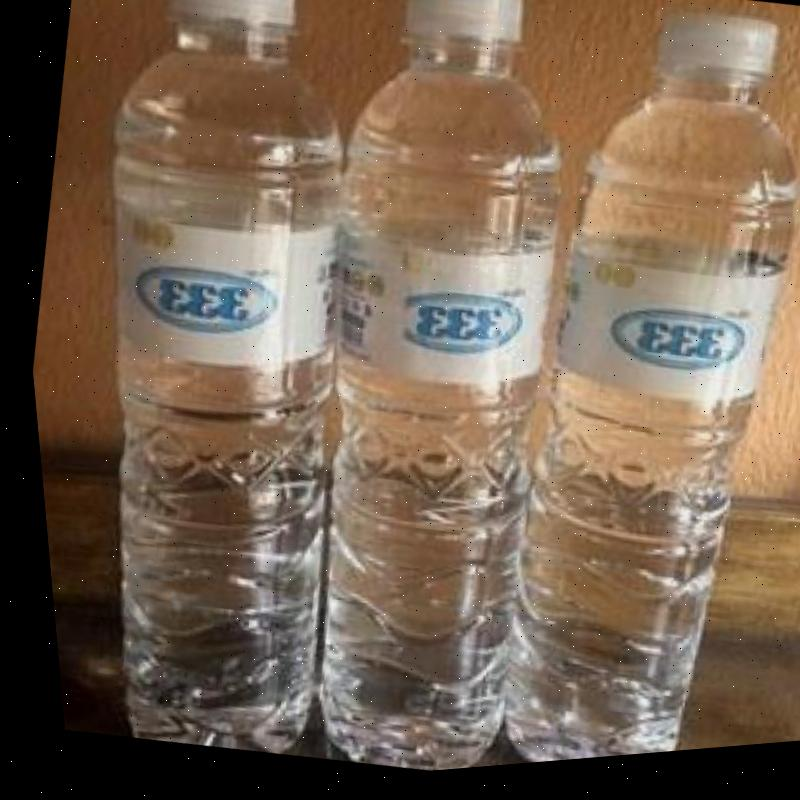botella: (0, 0, 438, 775), (216, 0, 632, 786), (426, 0, 800, 773)
